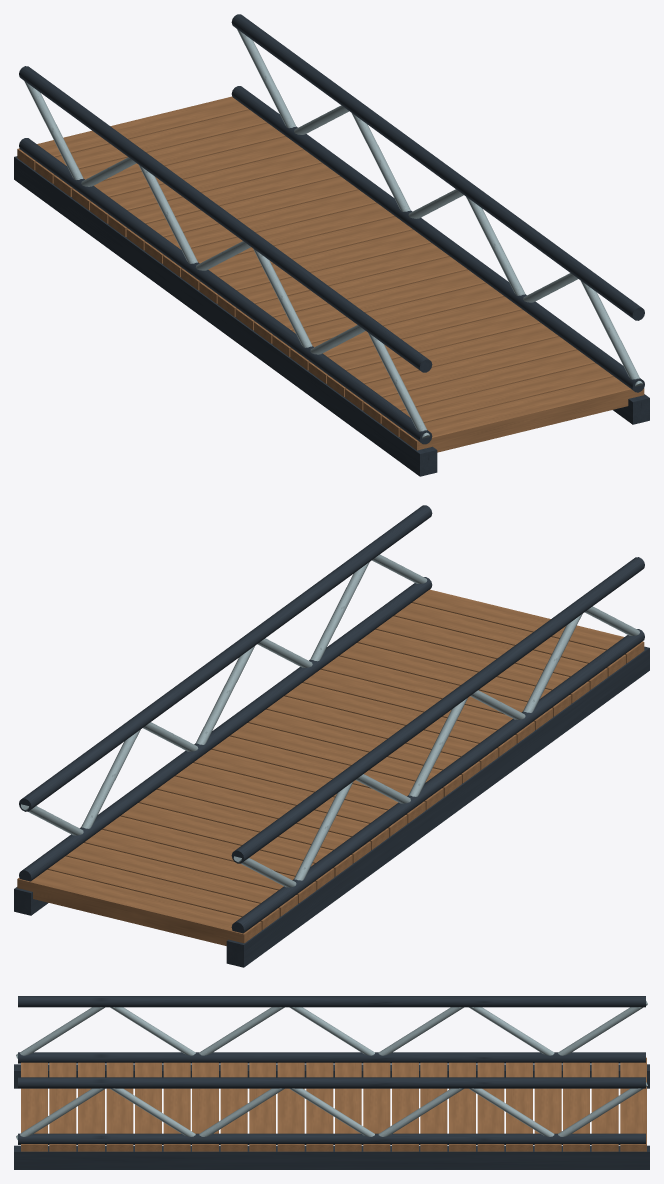
File: CanalBridge.glb
The picture shows the model from 3 angles, top to bottom: view 1: azimuth 30°, elevation 25°; view 2: azimuth 150°, elevation 25°; view 3: azimuth 270°, elevation 25°; orthographic projection. The views are drawn at different scales.
Parts seen in each view (by area): view 1: Beam, Chord.001, Chord.003, Deck plank, Chord, Chord.002, Deck plank.001, Deck plank.002, Deck plank.003, Deck plank.004, Deck plank.005, Deck plank.015 (+24 smaller); view 2: Beam, Chord.001, Chord.003, Deck plank.021, Chord, Chord.002, Deck plank.020, Deck plank.019, Deck plank.018, Deck plank, Deck plank.001, Deck plank.006 (+21 smaller); view 3: Beam.001, Chord.003, Chord.001, Chord, Chord.002, Deck plank.012, Deck plank.009, Deck plank.018, Deck plank.003, Deck plank.015, Deck plank.006, Deck plank.021 (+30 smaller).
Part boxes in pixels (left/top/right/bottom): Beam: left=14, top=156, right=437, bottom=476; Chord.001: left=19, top=66, right=432, bottom=372; Chord.003: left=231, top=14, right=644, bottom=320; Deck plank: left=399, top=376, right=644, bottom=452; Chord: left=19, top=138, right=432, bottom=444; Chord.002: left=231, top=86, right=644, bottom=392; Deck plank.001: left=381, top=363, right=613, bottom=436; Deck plank.002: left=363, top=350, right=595, bottom=423; Deck plank.003: left=345, top=336, right=577, bottom=410; Deck plank.004: left=327, top=323, right=558, bottom=396; Deck plank.005: left=308, top=310, right=540, bottom=383; Deck plank.015: left=126, top=176, right=358, bottom=250; Beam: left=226, top=646, right=649, bottom=967; Chord.001: left=231, top=557, right=644, bottom=863; Chord.003: left=19, top=505, right=432, bottom=811; Deck plank.021: left=17, top=869, right=261, bottom=945; Chord: left=231, top=629, right=644, bottom=933; Chord.002: left=19, top=577, right=432, bottom=881; Deck plank.020: left=47, top=856, right=279, bottom=929; Deck plank.019: left=65, top=843, right=297, bottom=916; Deck plank.018: left=84, top=829, right=316, bottom=903; Deck plank: left=412, top=589, right=644, bottom=663; Deck plank.001: left=393, top=603, right=625, bottom=676; Deck plank.006: left=302, top=669, right=534, bottom=743; Beam.001: left=14, top=1145, right=649, bottom=1169; Chord.003: left=18, top=1077, right=645, bottom=1088; Chord.001: left=18, top=996, right=645, bottom=1007; Chord: left=18, top=1052, right=645, bottom=1063; Chord.002: left=18, top=1133, right=645, bottom=1144; Deck plank.012: left=363, top=1062, right=390, bottom=1151; Deck plank.009: left=277, top=1062, right=304, bottom=1151; Deck plank.018: left=534, top=1062, right=561, bottom=1151; Deck plank.003: left=106, top=1062, right=133, bottom=1151; Deck plank.015: left=449, top=1062, right=475, bottom=1151; Deck plank.006: left=192, top=1062, right=218, bottom=1151; Deck plank.021: left=620, top=1057, right=646, bottom=1151.
Bounding box in the file's own units: 2.55 × 1.2 × 7.8.
Materials: 3 (3 with a texture image).
